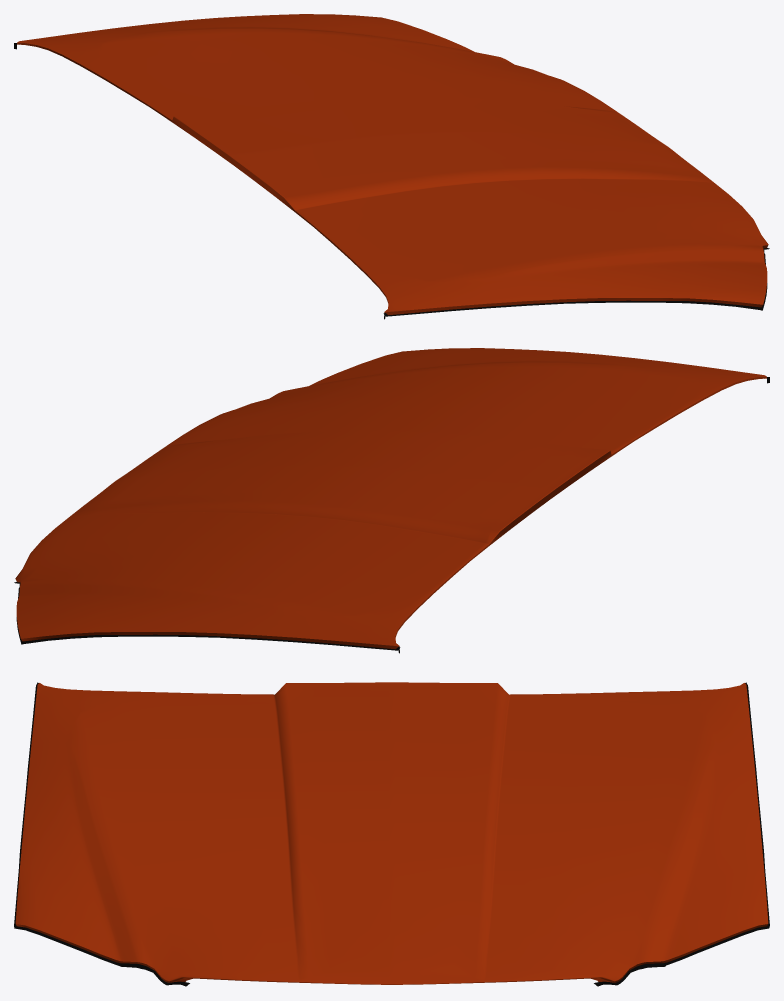
The picture shows the model from 3 angles, top to bottom: view 1: azimuth 30°, elevation 25°; view 2: azimuth 150°, elevation 25°; view 3: azimuth 270°, elevation 25°; orthographic projection. The views are drawn at different scales.
Parts seen in each view (by area): view 1: U236_17_101B_C_1_DaS_U236_17_101B_C, U236_17_101B_C_1_DaS_U236_17_101B_C_E, U236_17_101B_C_U236_17_101B_C_2_D; view 2: U236_17_101B_C_1_DaS_U236_17_101B_C, U236_17_101B_C_1_DaS_U236_17_101B_C_E, U236_17_101B_C_U236_17_101B_C_2_D; view 3: U236_17_101B_C_1_DaS_U236_17_101B_C, U236_17_101B_C_U236_17_101B_C_2_D, U236_17_101B_C_1_DaS_U236_17_101B_C_E.
Part boxes in pixels (x1,y1,x2,y2): U236_17_101B_C_1_DaS_U236_17_101B_C: (17, 14, 768, 311); U236_17_101B_C_1_DaS_U236_17_101B_C_E: (17, 42, 768, 315); U236_17_101B_C_U236_17_101B_C_2_D: (14, 43, 769, 319); U236_17_101B_C_1_DaS_U236_17_101B_C: (15, 348, 766, 645); U236_17_101B_C_1_DaS_U236_17_101B_C_E: (15, 376, 766, 649); U236_17_101B_C_U236_17_101B_C_2_D: (14, 377, 769, 653); U236_17_101B_C_1_DaS_U236_17_101B_C: (15, 682, 768, 984); U236_17_101B_C_U236_17_101B_C_2_D: (14, 682, 769, 986); U236_17_101B_C_1_DaS_U236_17_101B_C_E: (16, 924, 767, 982).
Bounding box in the file's own units: 96.92 × 22.74 × 140.
